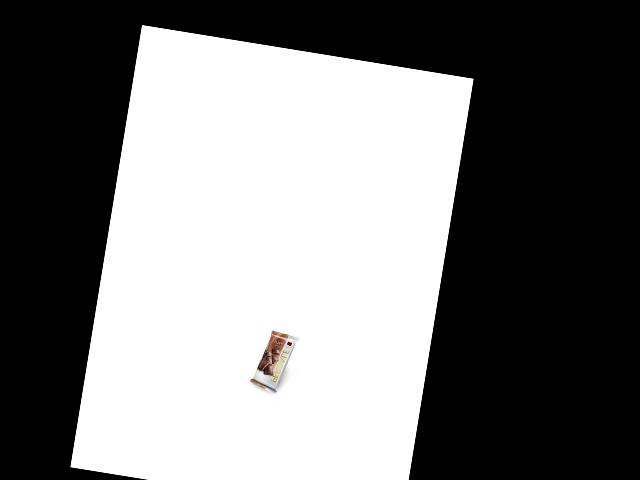chocolate: (245, 327, 300, 391)
